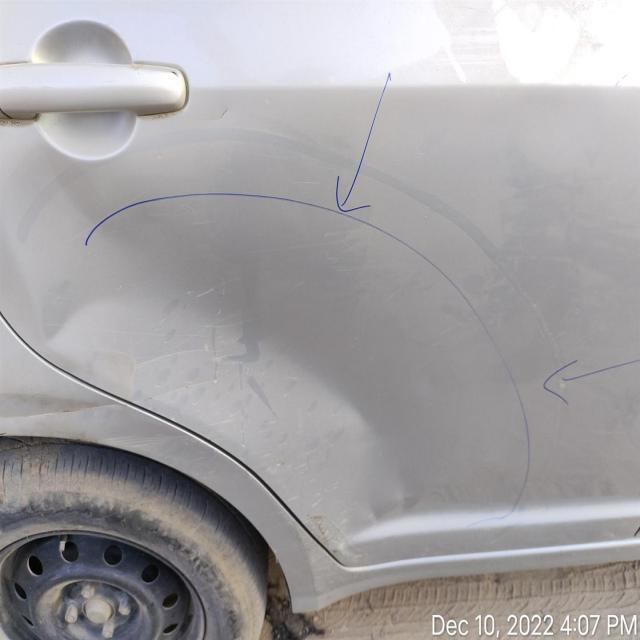damage: (130, 270, 335, 420), (300, 370, 425, 524), (25, 213, 145, 366)
